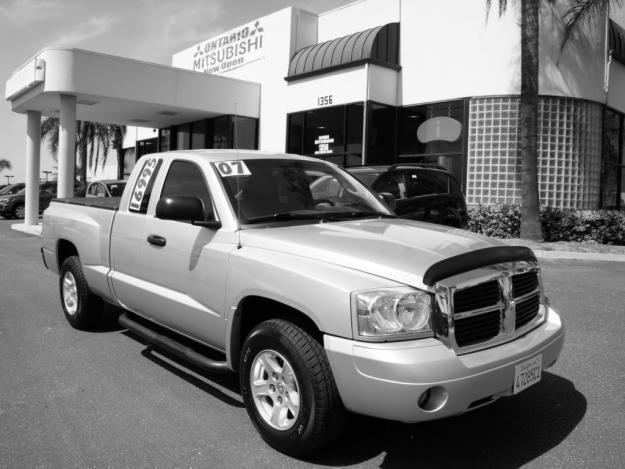car: (39, 145, 570, 461)
